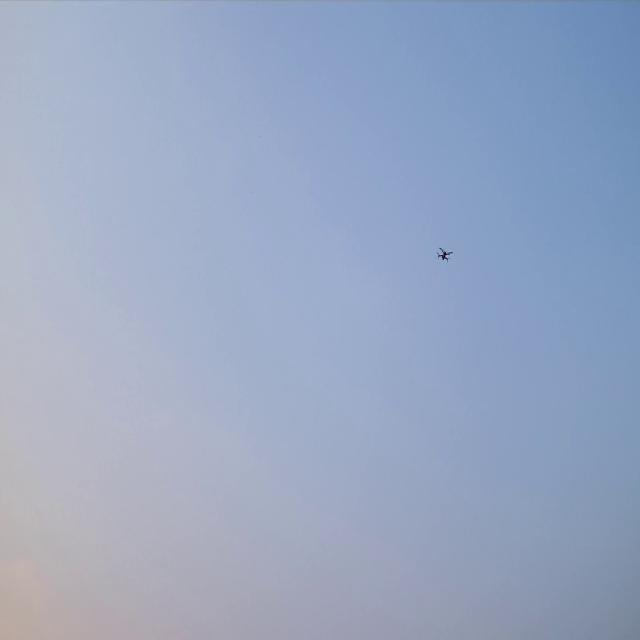UAV: (438, 248, 451, 260)
